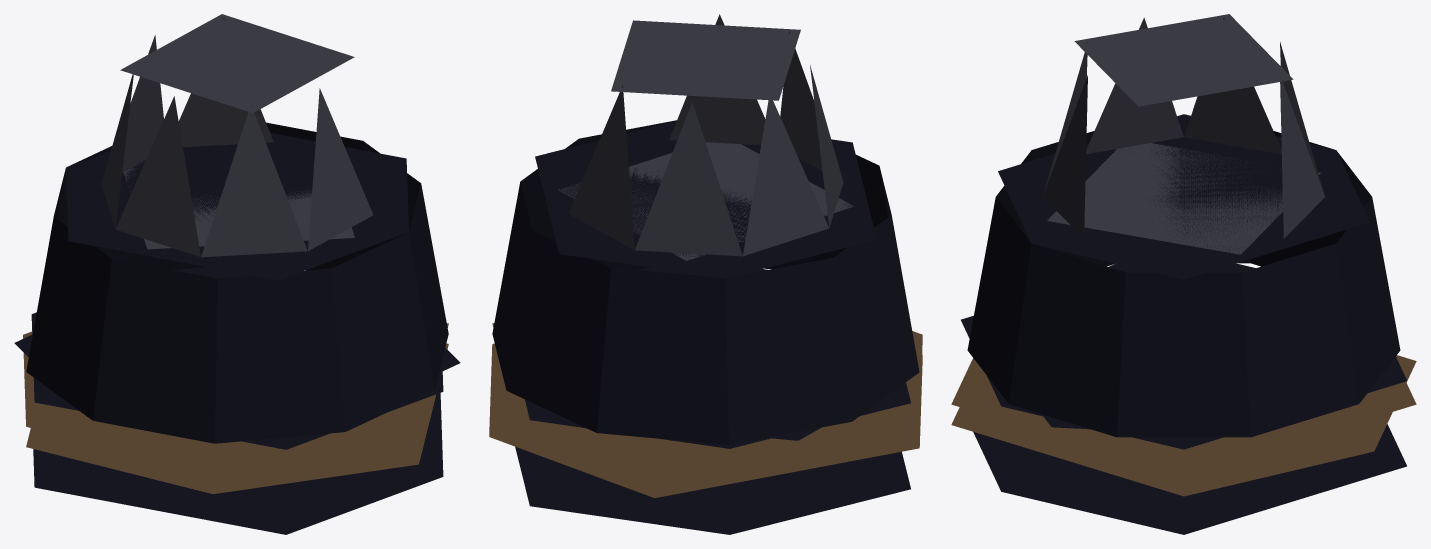
The model's file is prop_tanggeon_lod1.glb.
3 renders of one model, left to right at view 1: azimuth 30°, elevation 25°; view 2: azimuth 150°, elevation 25°; view 3: azimuth 270°, elevation 25°, orthographic.
Parts seen in each view (by area): view 1: prop_tanggeon_lod1; view 2: prop_tanggeon_lod1; view 3: prop_tanggeon_lod1.
Boxes of the visible parts, <box> form: prop_tanggeon_lod1: <box>14,14,460,534</box>; prop_tanggeon_lod1: <box>489,14,922,534</box>; prop_tanggeon_lod1: <box>951,14,1416,534</box>.
Bounding box in the file's own units: 0.26 × 0.2216 × 0.2472.
